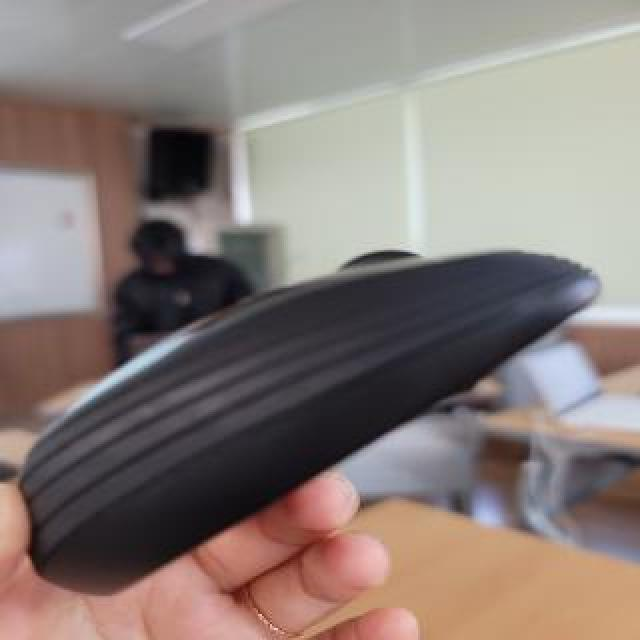mouse: (16, 212, 640, 558)
